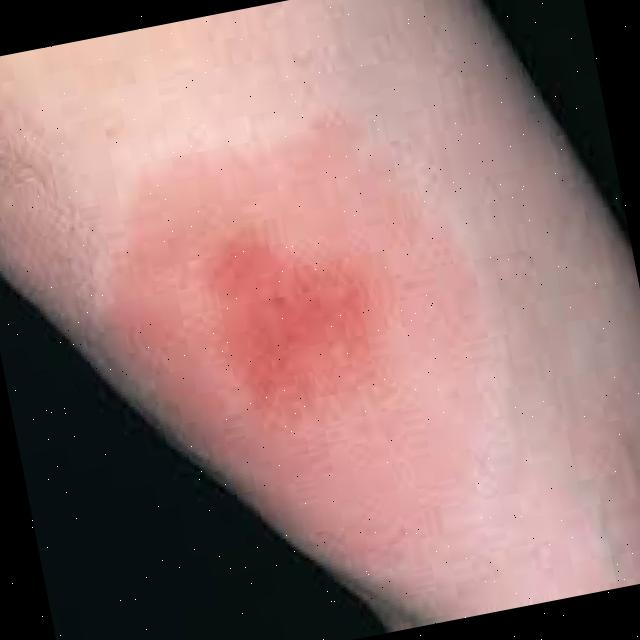kene: (140, 114, 448, 463)
